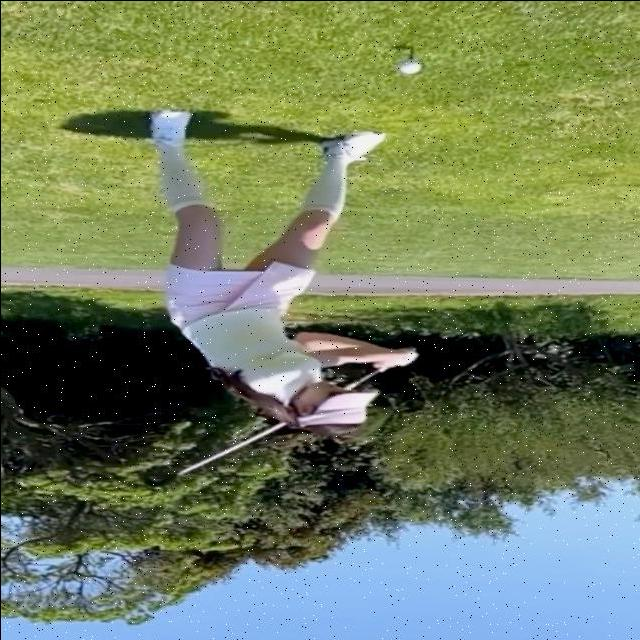golf ball: (394, 58, 425, 74)
golf club-handle: (132, 345, 419, 488)
golf club-head: (133, 471, 175, 488)
